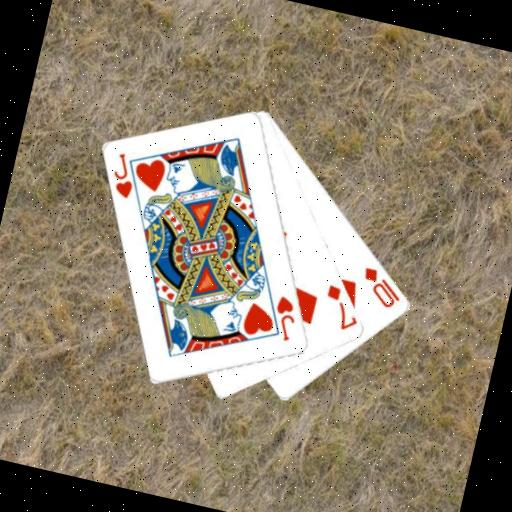10D: (355, 263, 408, 313)
7D: (316, 280, 365, 335)
JH: (106, 149, 143, 202), (266, 292, 302, 345)
